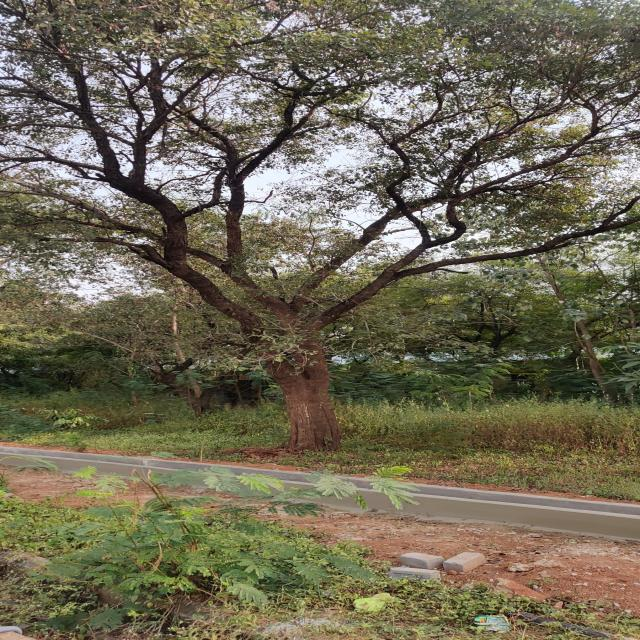Devakanchan tree: (22, 9, 609, 459)
